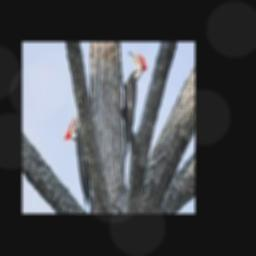Woodpecker: (120, 51, 147, 165), (64, 106, 92, 209)
